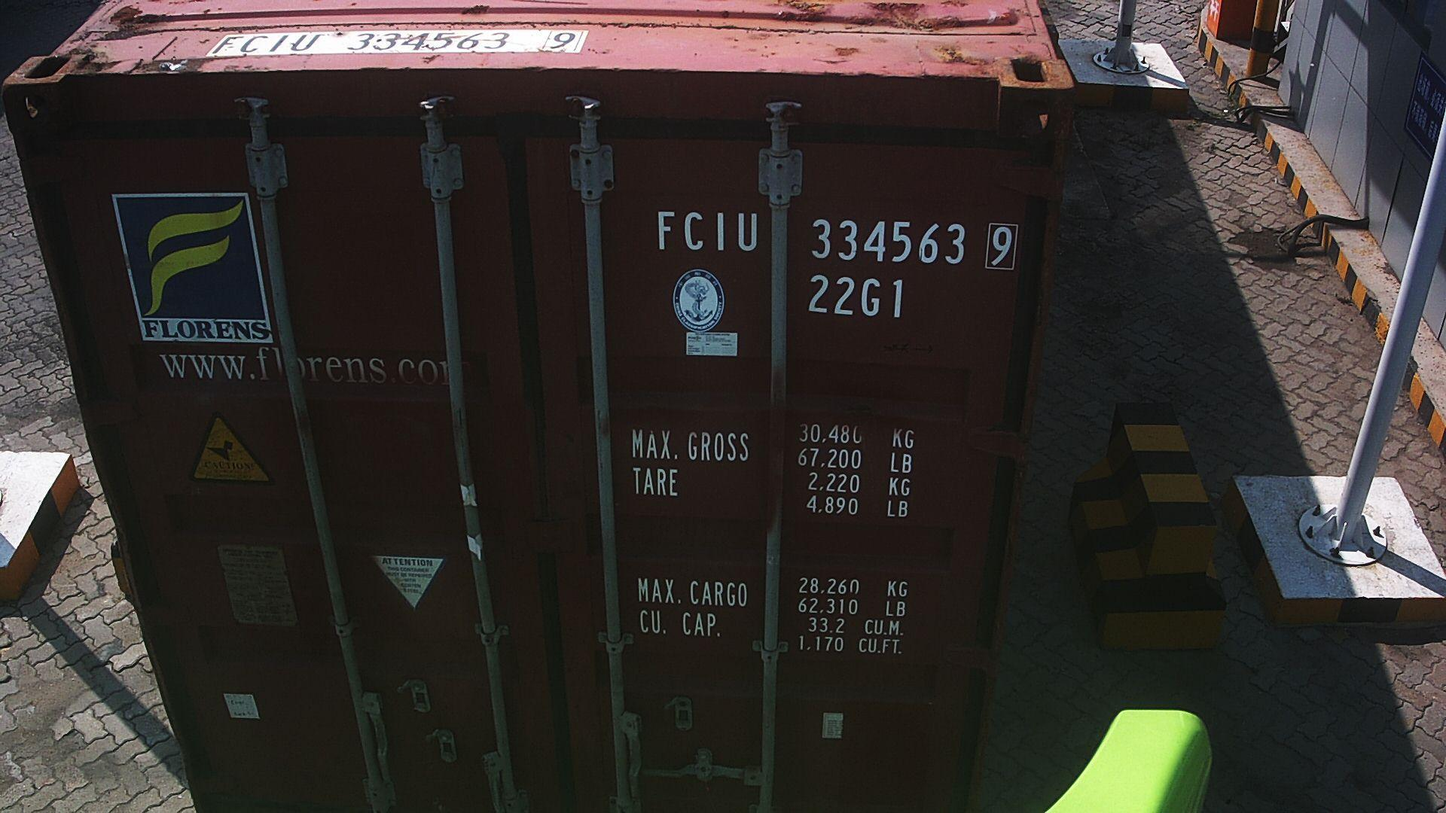container-numbers: (648, 207, 1023, 275), (210, 26, 592, 55), (803, 272, 909, 322)
